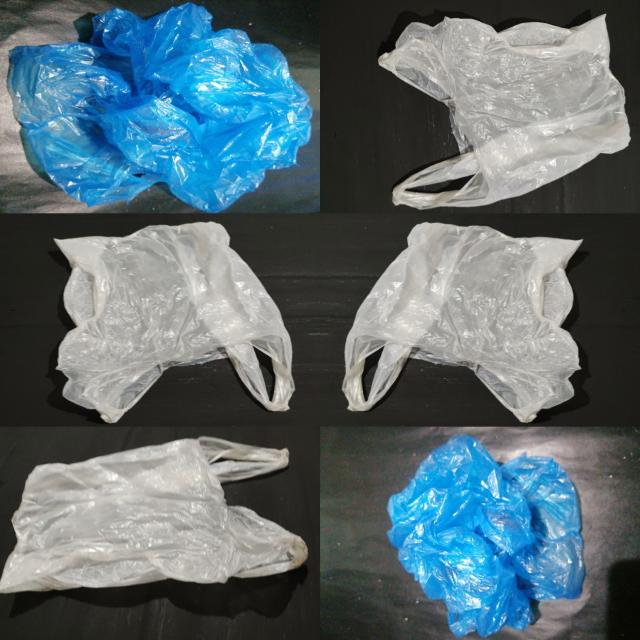Single-layer Plastic: (8, 4, 311, 212), (378, 15, 629, 209), (55, 222, 294, 422), (343, 222, 580, 422), (1, 438, 308, 592), (389, 435, 584, 636)
